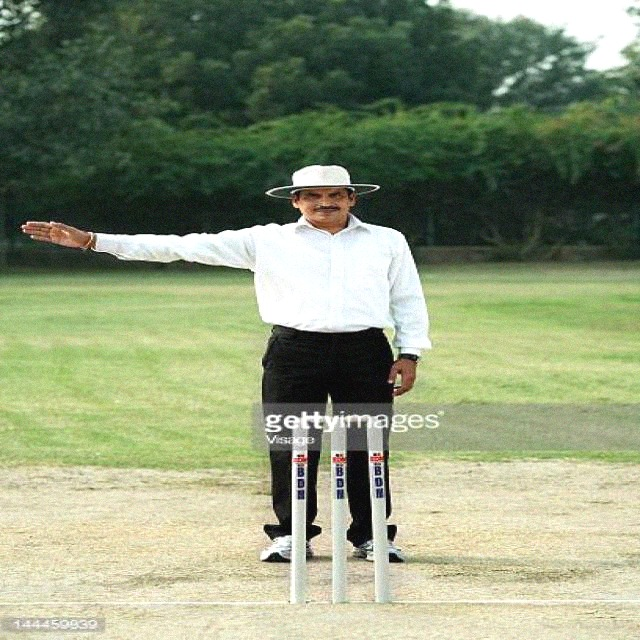No_Ball: (19, 161, 430, 570)
